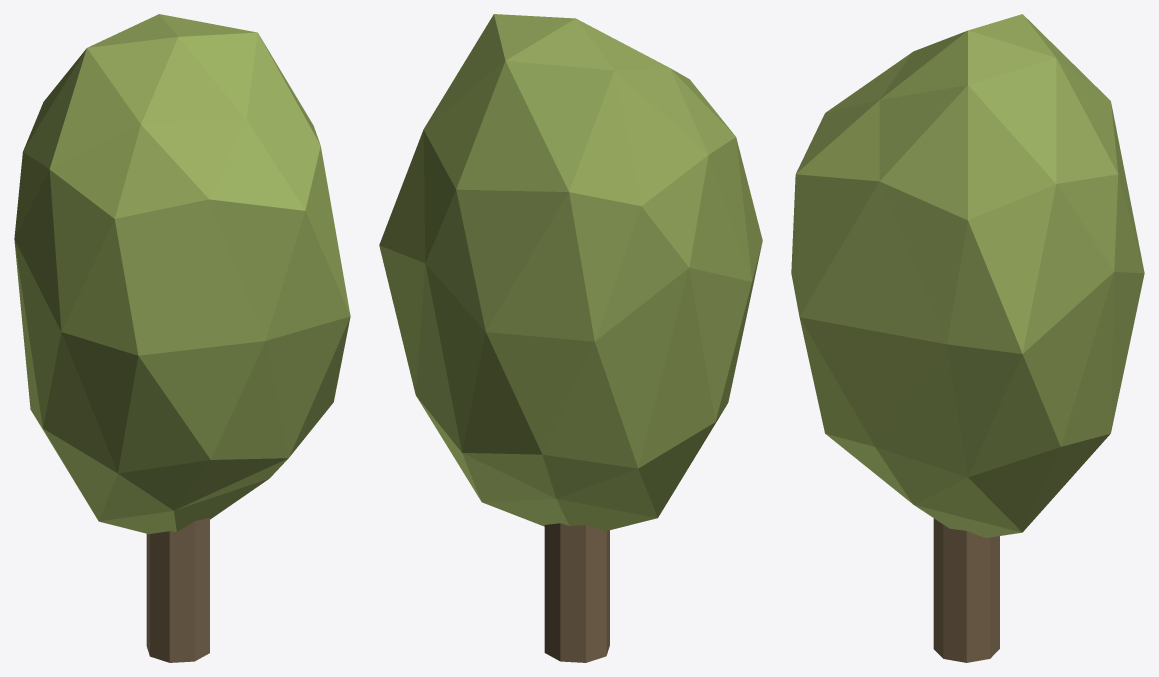
The model's file is tree.fbx.
The picture shows the model from 3 angles, left to right: view 1: azimuth 30°, elevation 25°; view 2: azimuth 150°, elevation 25°; view 3: azimuth 270°, elevation 25°; orthographic projection. The views are drawn at different scales.
Visible parts, largest first — view 1: Cylinder; view 2: Cylinder; view 3: Cylinder.
Boxes of the visible parts, x1,y1,x2,y2 form: Cylinder: (14,14,350,662); Cylinder: (379,14,762,662); Cylinder: (791,14,1144,662).
Size of the model in its own units: 1085 by 2063 by 1067.
